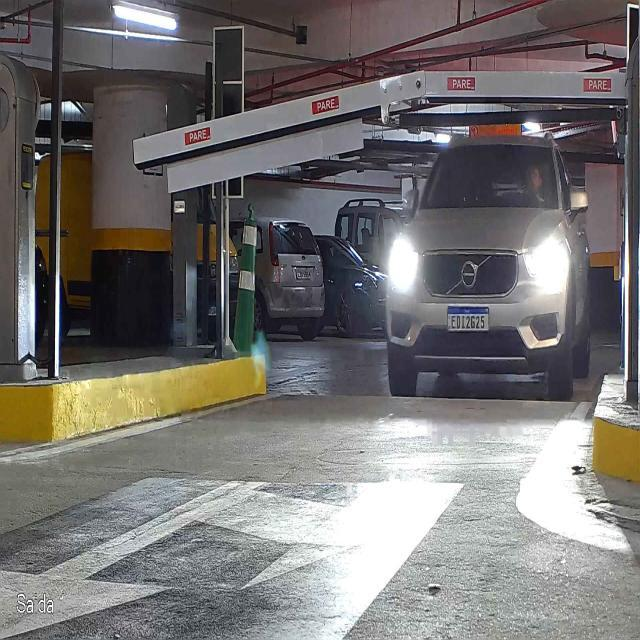mercosul_plate: (446, 306, 490, 334)
